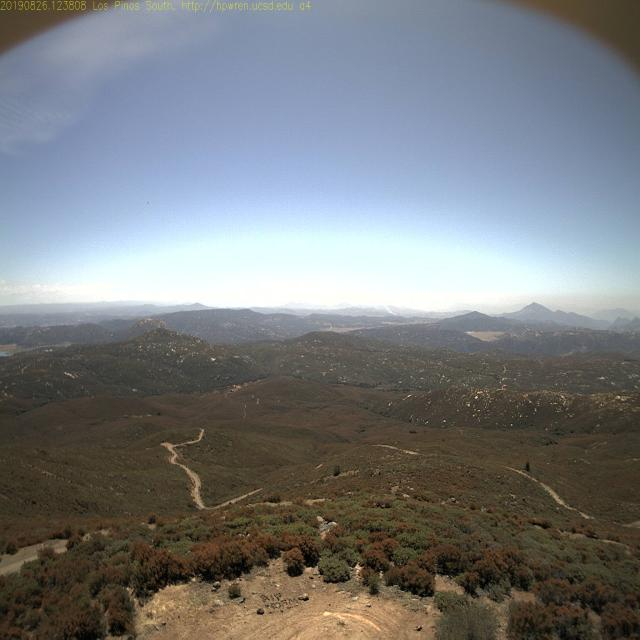smoke: (384, 304, 398, 318)
